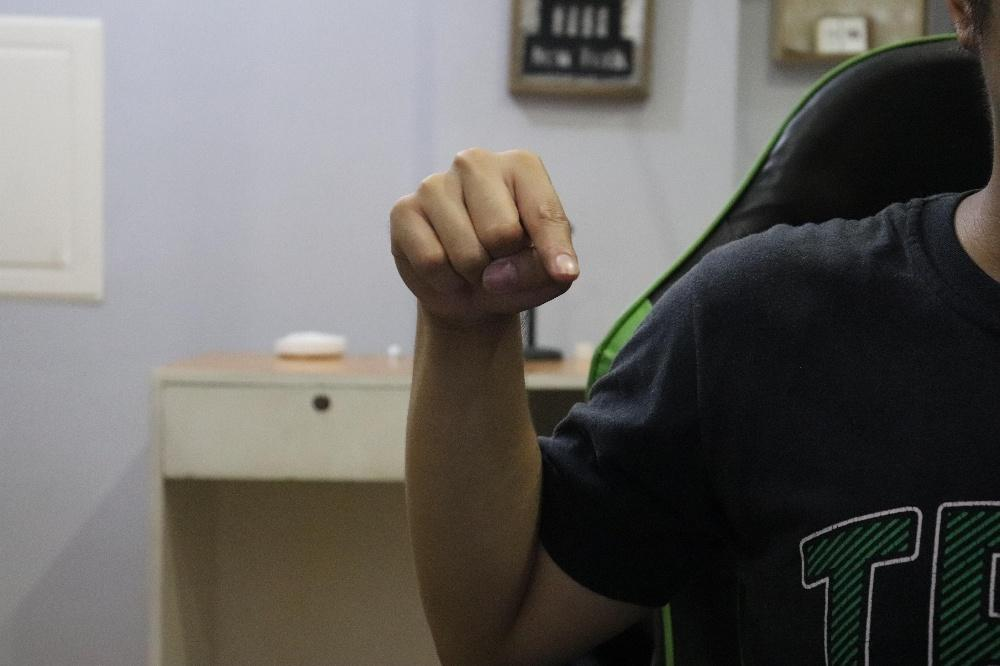z: (389, 146, 579, 322)
